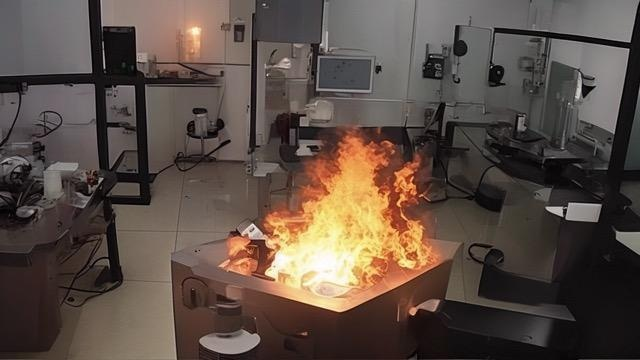fire: (234, 129, 448, 300)
